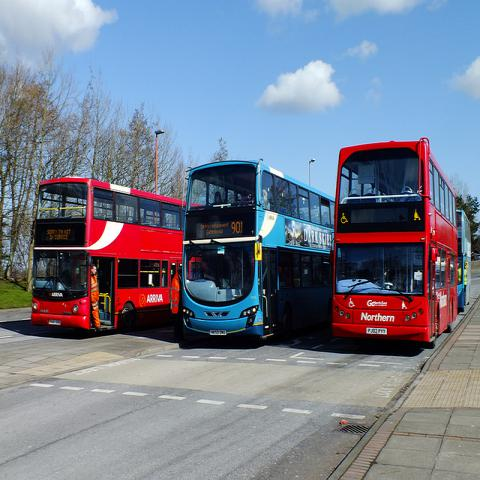bus: (179, 163, 337, 345), (330, 139, 459, 346), (30, 177, 186, 336)
